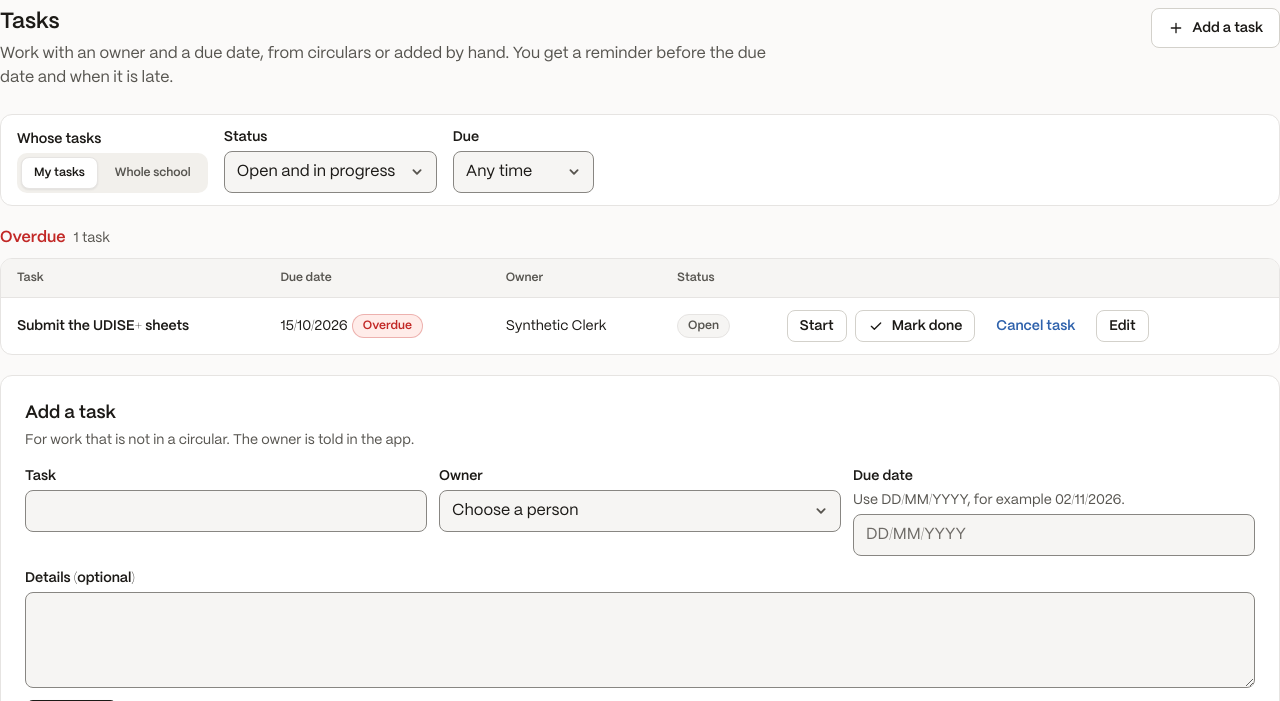
Test: edit a task (US-1603, FR-TASK-003) › a closed task (409), a refusal (403) and an inactive owner (422) are explained
This screenshot has width=1280, height=701.
Click the button "Edit" at (1122, 326), box [1096,310,1148,342]
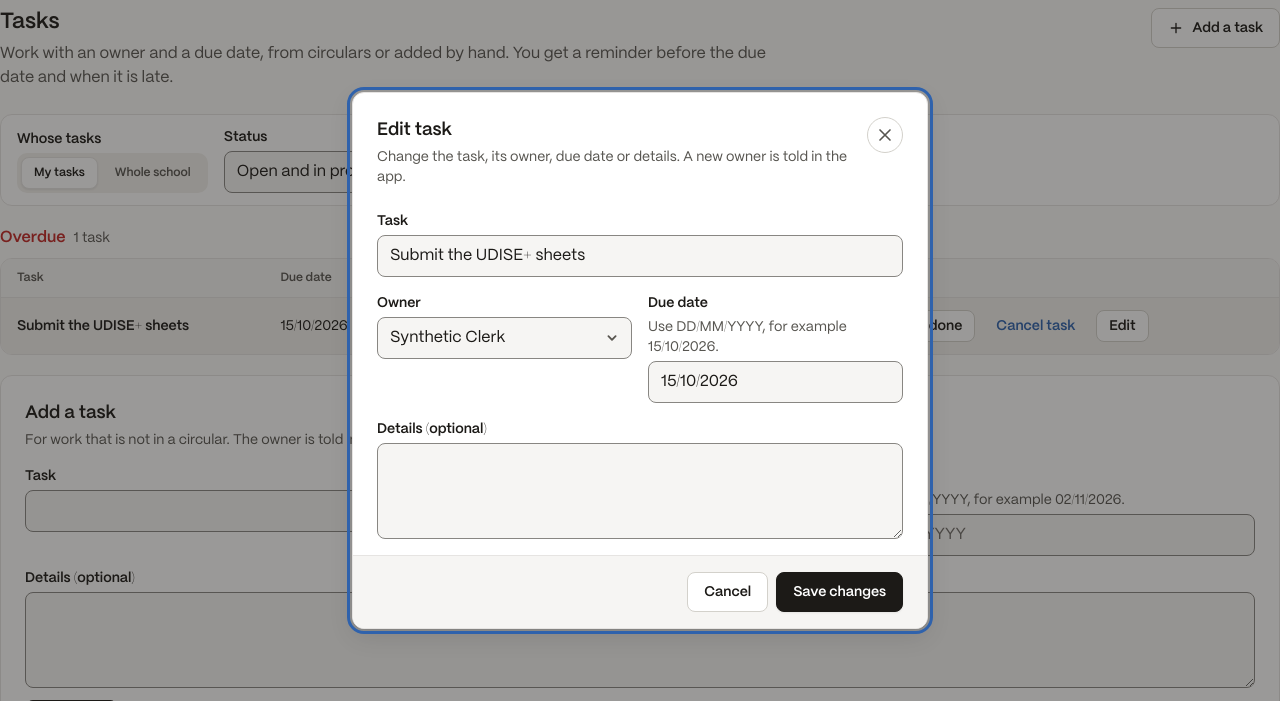
Select "Synthetic Teacher" in the dropdown labelled "Owner" at (504, 338), box [377,316,632,358]
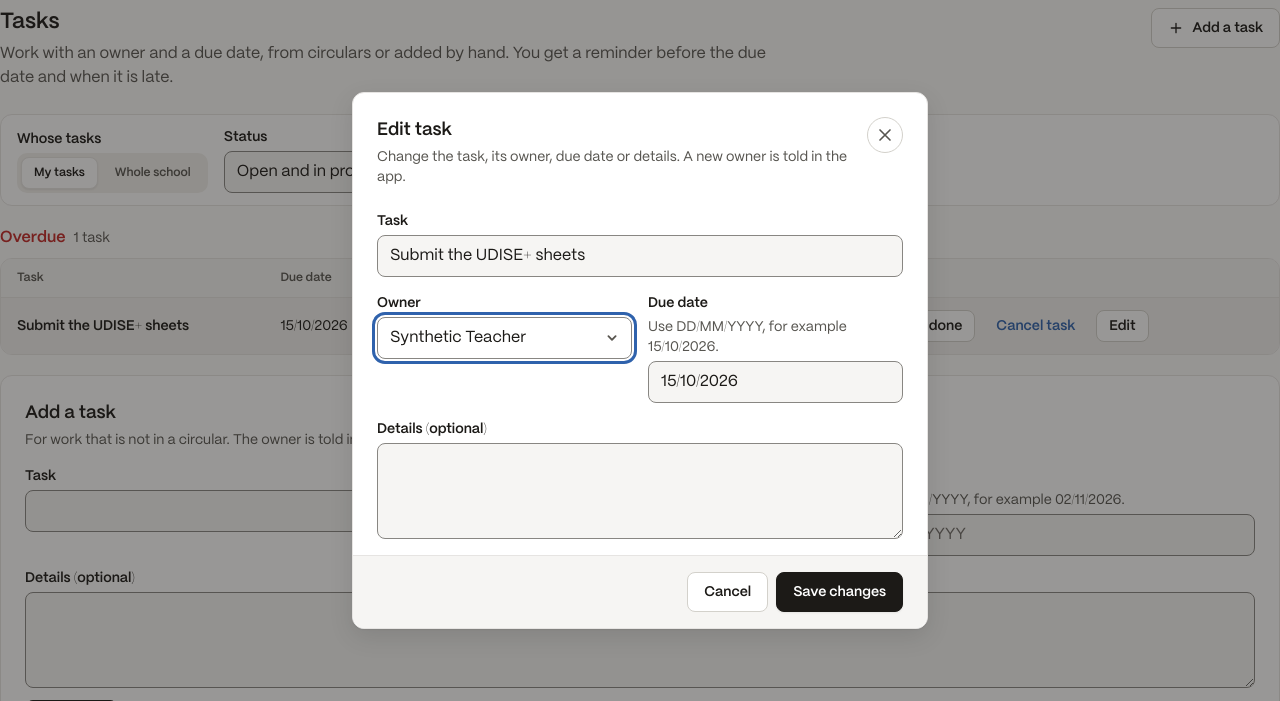
Click the button "Save changes" at (840, 592), box [776,572,903,612]
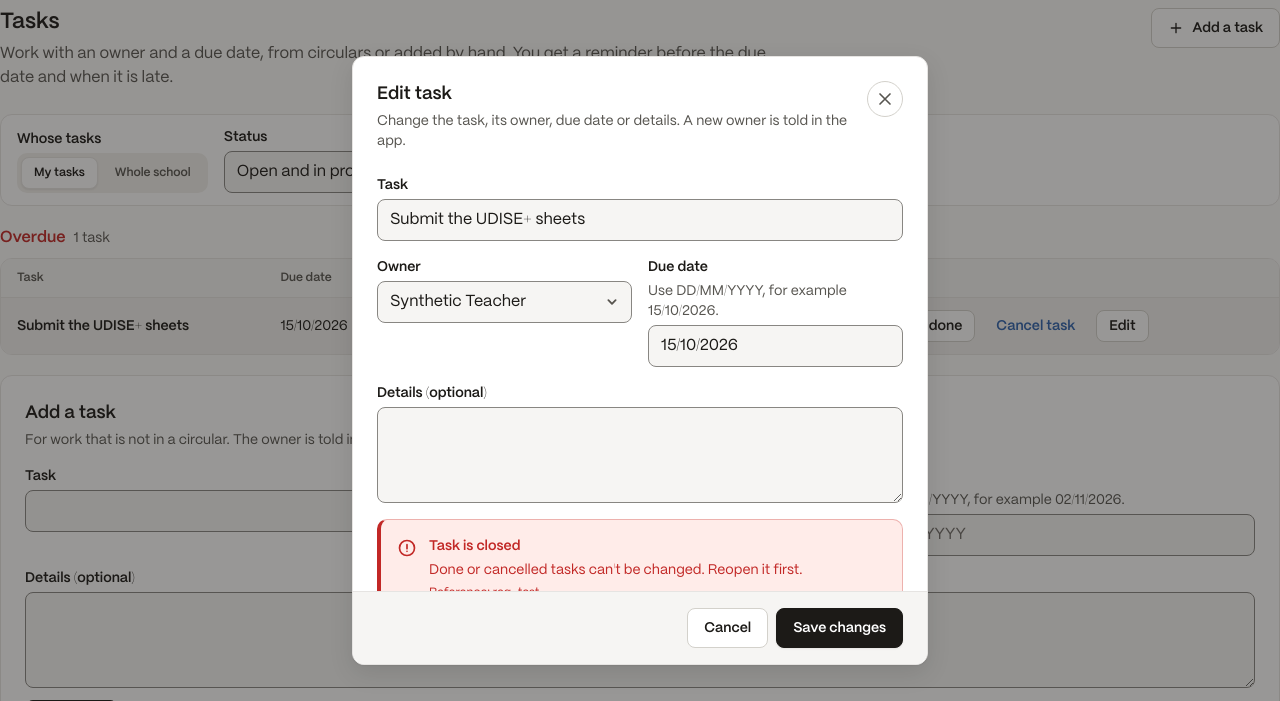
Result: the text "Task is closed" is shown at [429,538,520,552]
Click the button "Save changes" at (840, 628), box [776,608,903,648]
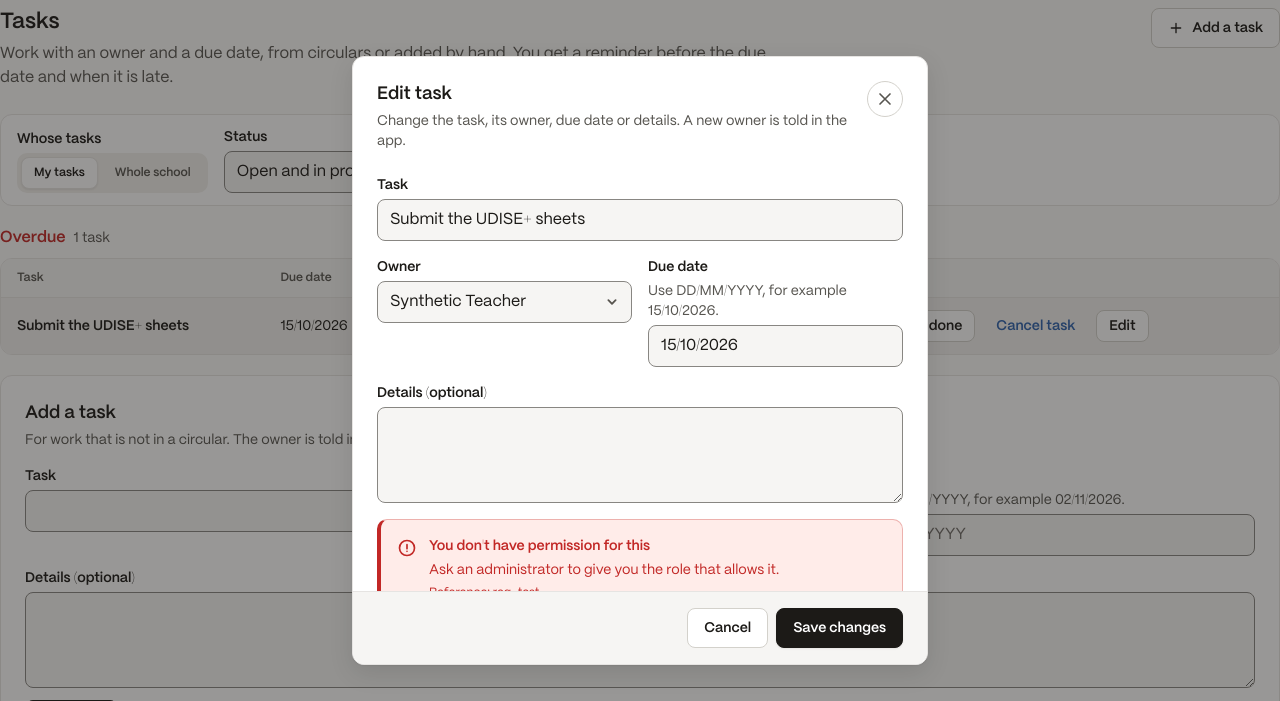
Result: the text "You don't have permission for this" is shown at [429,538,650,552]
Click the button "Save changes" at (840, 628), box [776,608,903,648]
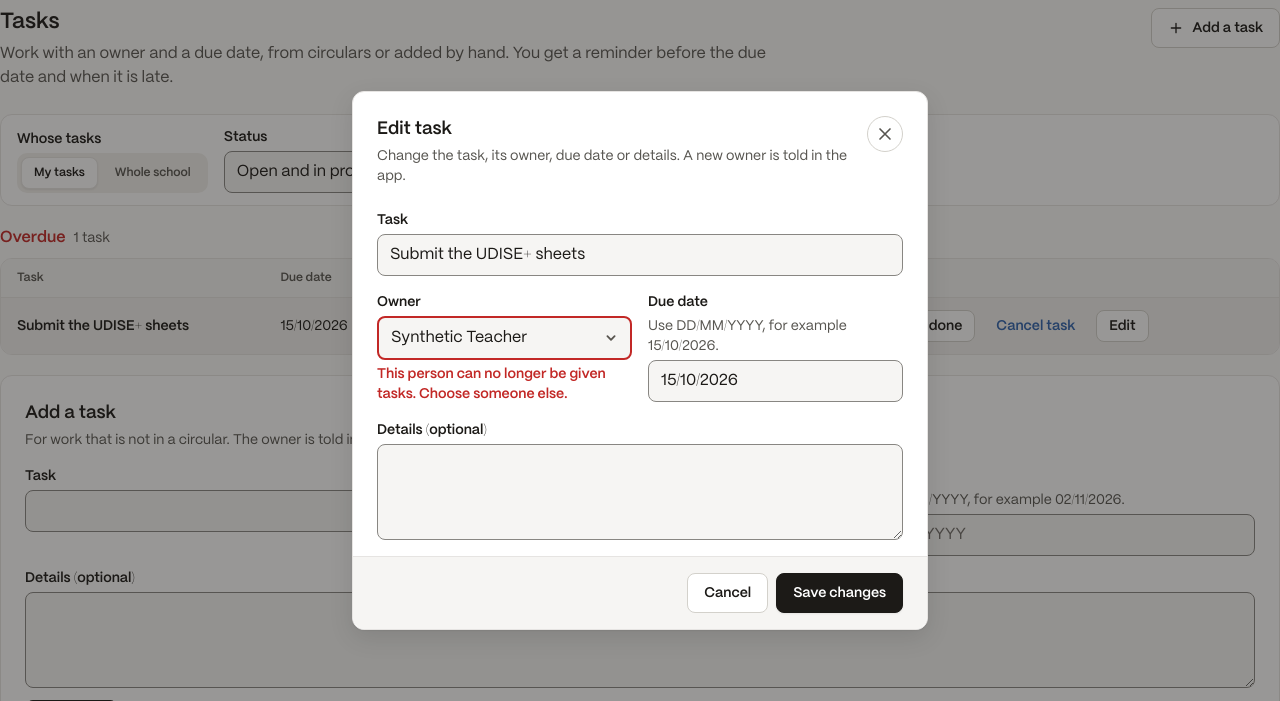
Result: the text "This person can no longer be given tasks. Choose someone else." is shown at [377,364,632,404]
